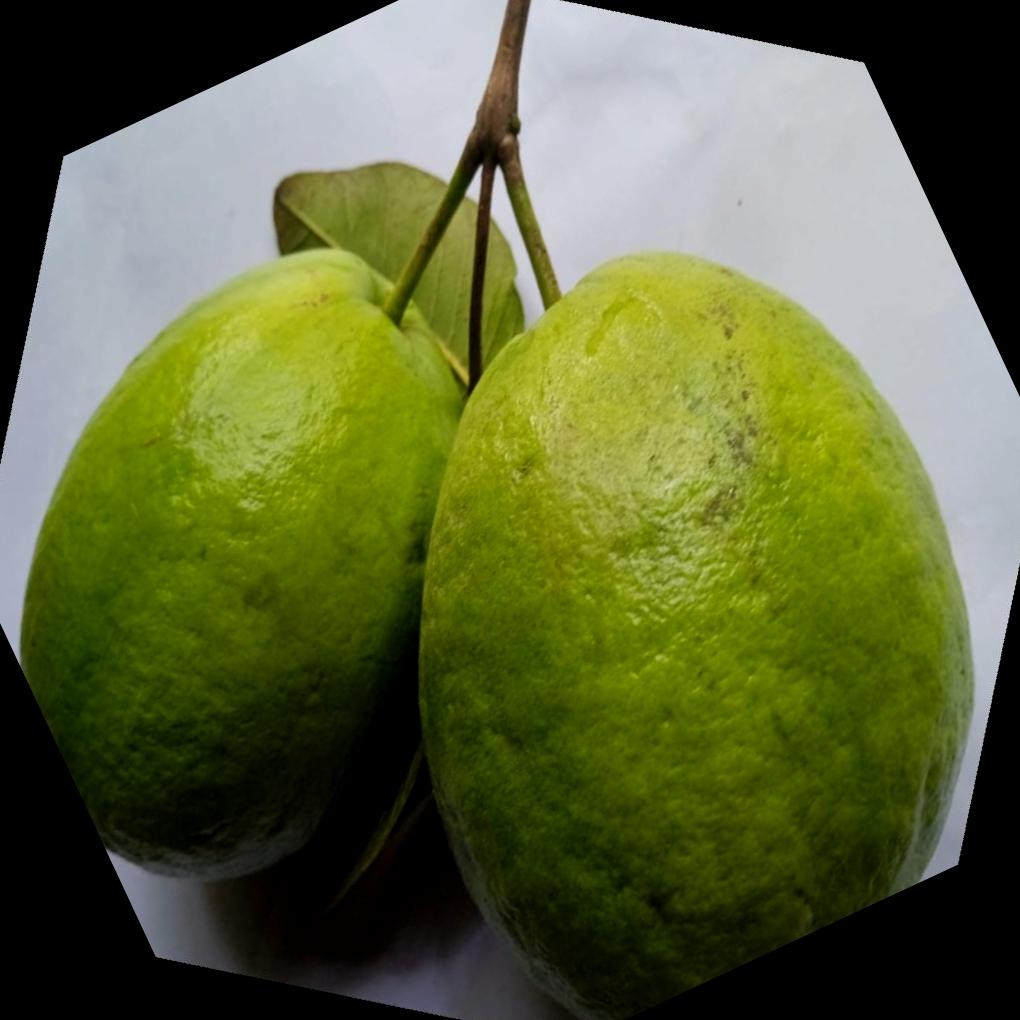FreshGuava: (16, 139, 978, 1020)
